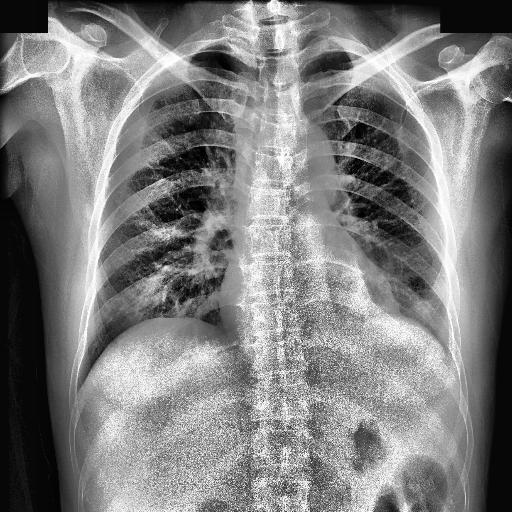0- Aortic enlargement: (270, 122, 334, 208), (276, 122, 334, 197), (286, 120, 336, 194)
7- Lung Opacity: (362, 242, 454, 348)
